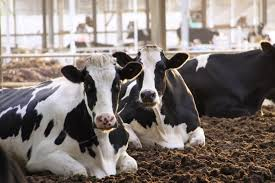waka: (5, 48, 134, 176)
